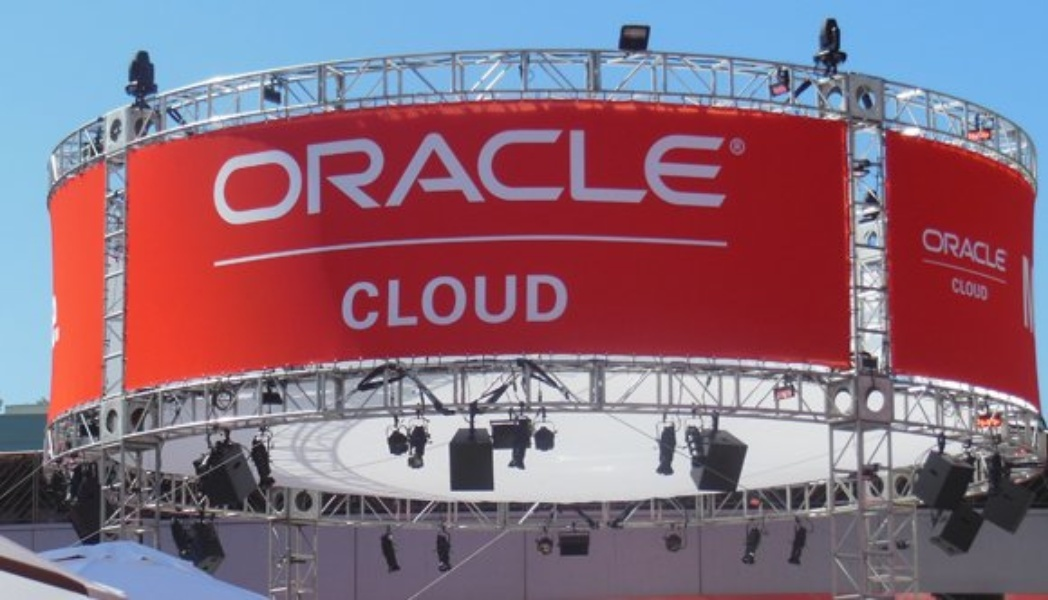text: (225, 109, 240, 228), (241, 109, 256, 228), (257, 109, 272, 228), (273, 109, 288, 228), (289, 109, 304, 228), (305, 109, 320, 228), (321, 109, 336, 228), (337, 109, 352, 228), (353, 109, 368, 228), (369, 109, 384, 228), (385, 109, 400, 228), (401, 109, 416, 228), (417, 109, 432, 228), (433, 109, 448, 228), (449, 109, 464, 228), (465, 109, 480, 228), (481, 109, 496, 228), (497, 109, 512, 228), (513, 109, 528, 228), (529, 109, 544, 228), (545, 109, 560, 228), (561, 109, 576, 228), (577, 109, 592, 228), (593, 109, 608, 228), (609, 109, 624, 228), (625, 109, 640, 228), (641, 109, 656, 228), (657, 109, 672, 228), (673, 109, 688, 228), (689, 109, 704, 228), (705, 109, 720, 228), (216, 109, 224, 228), (353, 268, 368, 331), (369, 268, 384, 331), (385, 268, 400, 331), (401, 268, 416, 331), (417, 268, 432, 331), (433, 268, 448, 331), (449, 268, 464, 331), (465, 268, 480, 331), (481, 268, 496, 331), (497, 268, 512, 331), (513, 268, 528, 331), (529, 268, 544, 331), (545, 268, 560, 331), (929, 225, 944, 275), (945, 225, 960, 275), (961, 225, 976, 275), (977, 225, 992, 275), (721, 109, 727, 228), (993, 225, 1007, 275), (561, 268, 571, 331), (344, 268, 352, 331), (961, 273, 976, 301), (920, 225, 928, 275), (977, 273, 991, 301), (949, 273, 960, 301)
